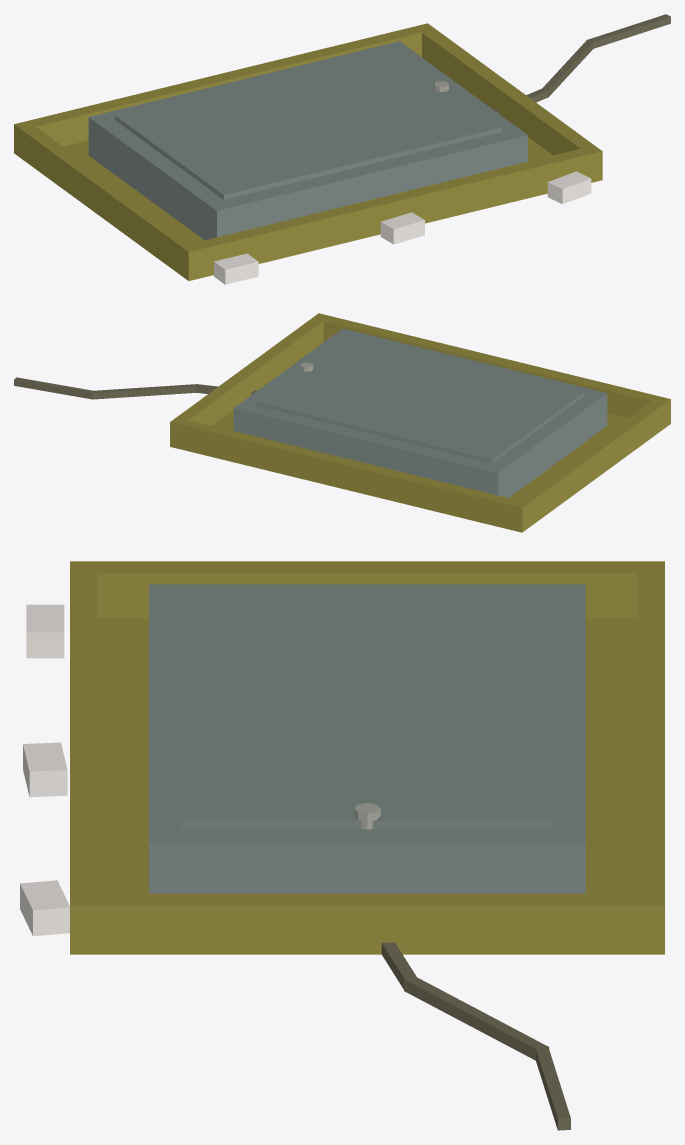
File: SM_CisternaFlexible_v1_Media_LOD0.fbx
3 views of the same model, one above another, from view 1: azimuth 30°, elevation 25°; view 2: azimuth 150°, elevation 25°; view 3: azimuth 270°, elevation 25° (orthographic). The views are drawn at different scales.
Visible parts, largest first — view 1: SM_farp_betera_v1_LOD0; view 2: SM_farp_betera_v1_LOD0; view 3: SM_farp_betera_v1_LOD0.
Boxes of the visible parts, x1,y1,x2,y2 form: SM_farp_betera_v1_LOD0: [14, 14, 670, 284]; SM_farp_betera_v1_LOD0: [14, 313, 670, 532]; SM_farp_betera_v1_LOD0: [20, 561, 664, 1130].
Size of the model in its own units: 11.26 by 0.86 by 5.91.
